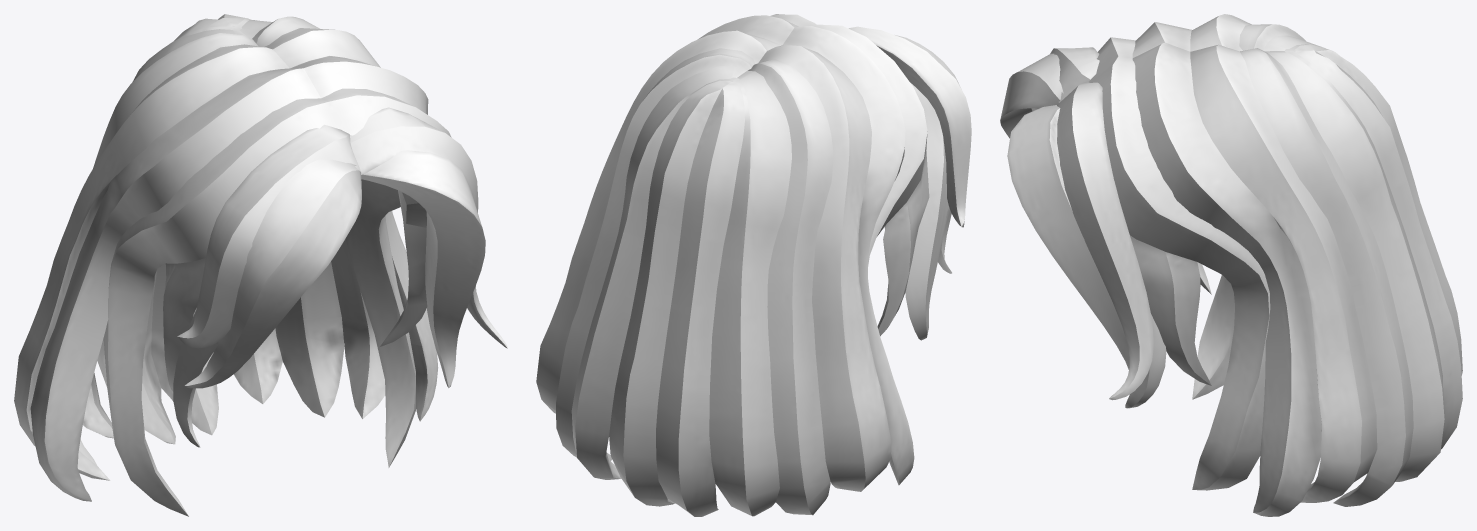
Rendered from hair_long.glb.
3 views of the same model, side by side, from view 1: azimuth 30°, elevation 25°; view 2: azimuth 150°, elevation 25°; view 3: azimuth 270°, elevation 25° (orthographic). The views are drawn at different scales.
Visible parts, largest first — view 1: Hair_Long; view 2: Hair_Long; view 3: Hair_Long.
Boxes of the visible parts, x1,y1,x2,y2 form: Hair_Long: (14,14,507,516); Hair_Long: (536,14,971,516); Hair_Long: (1000,14,1462,516).
Bounding box in the file's own units: 0.2447 × 0.2764 × 0.2704.
Materials: 1 (1 with a texture image).
